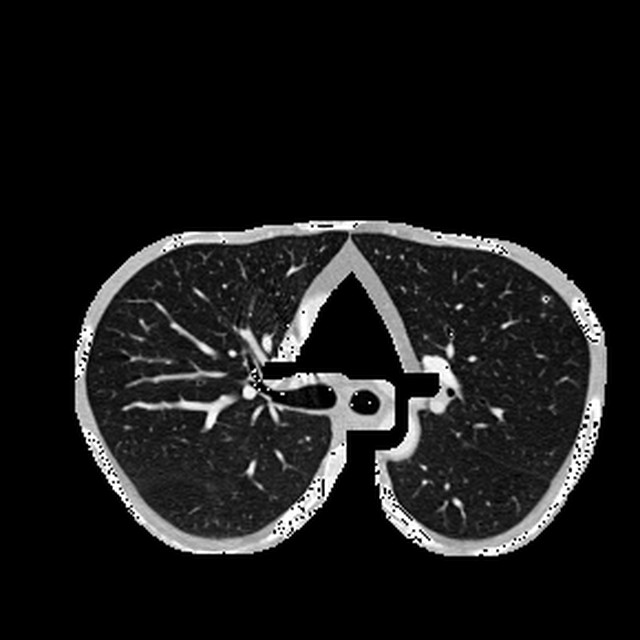PN: (541, 294, 550, 302)
